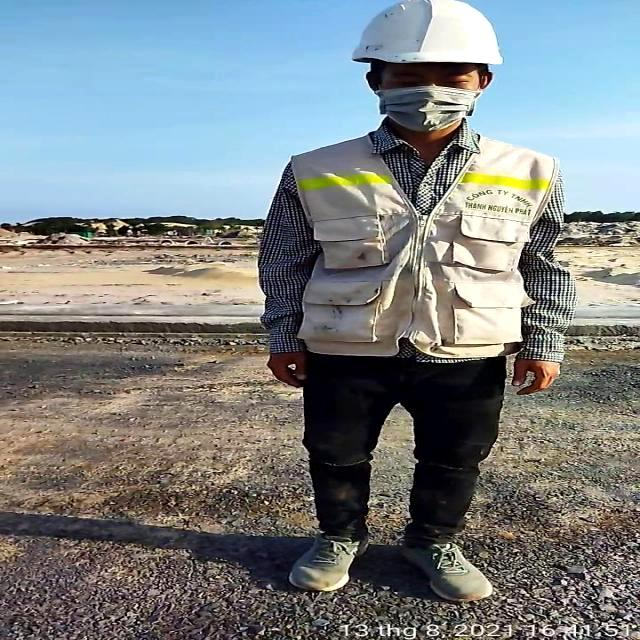hard_hat: (352, 0, 502, 65)
person: (259, 0, 574, 600)
